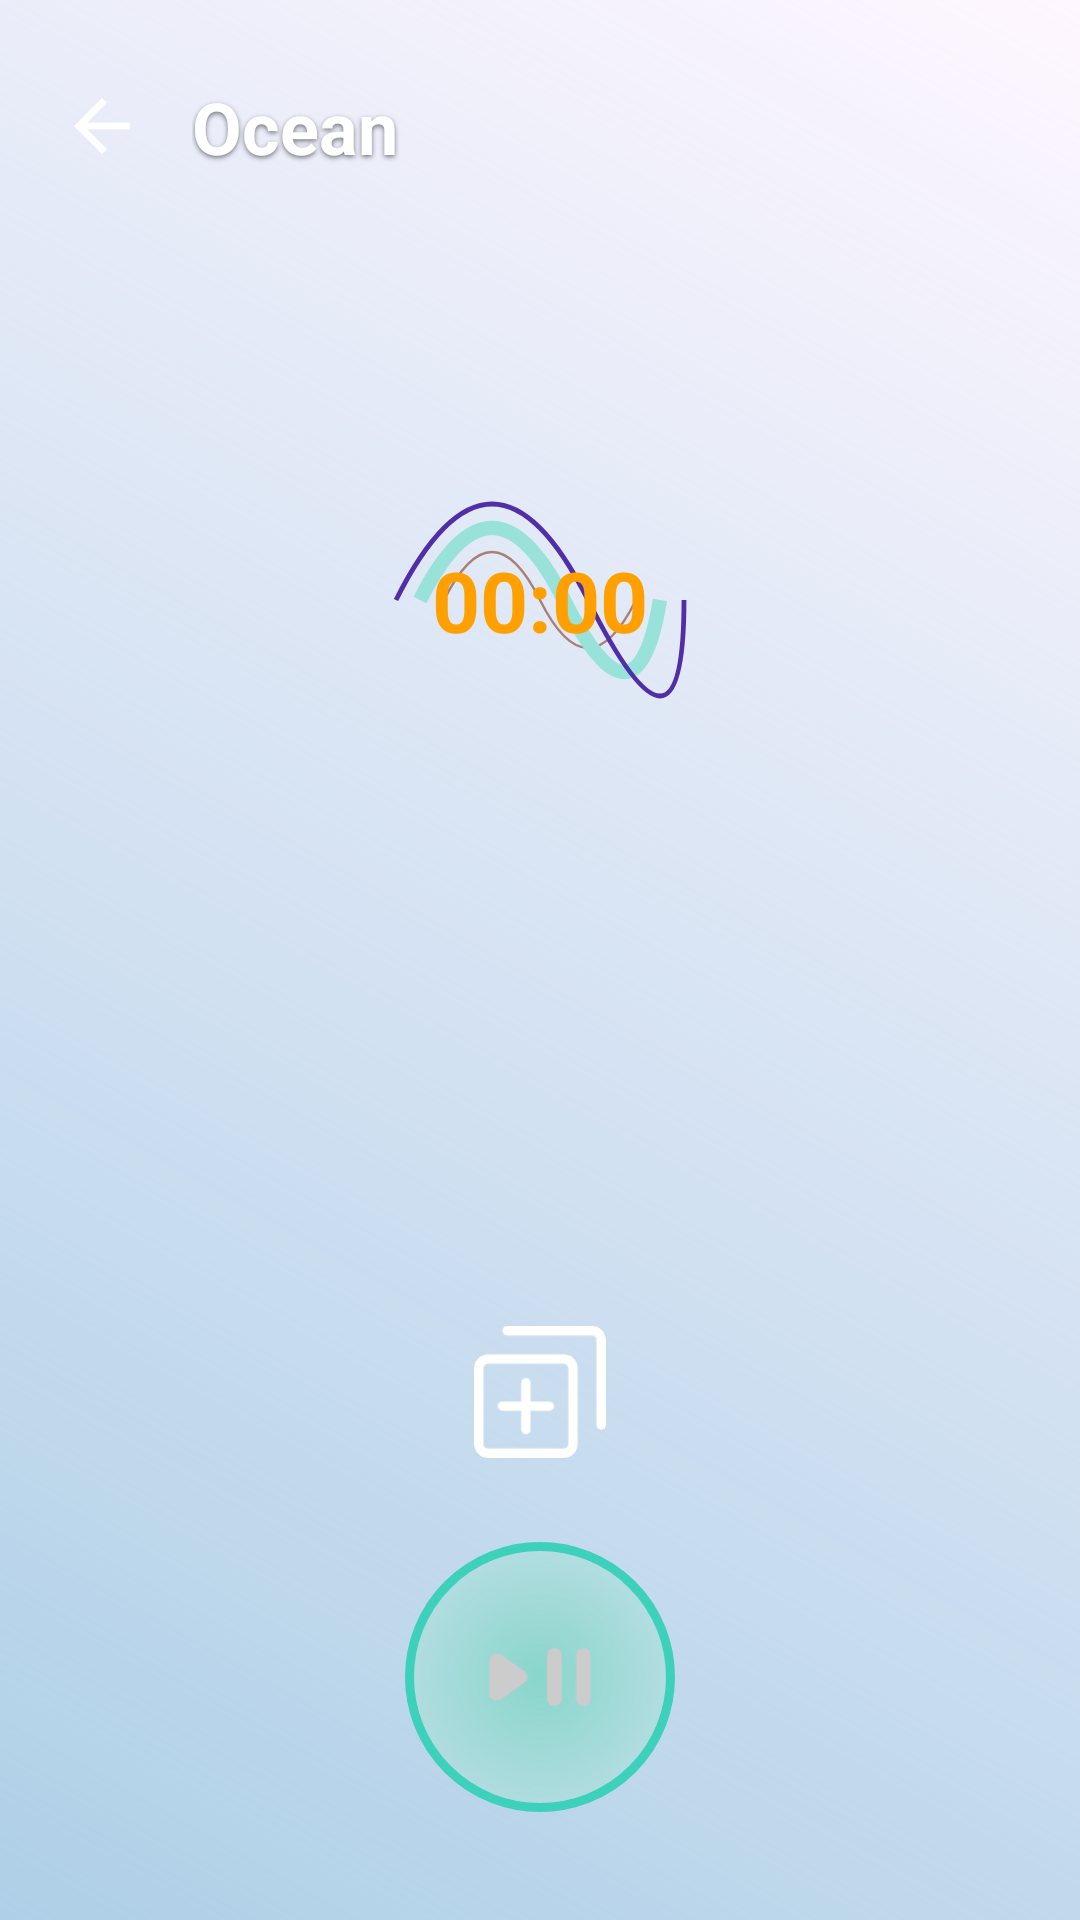

Screen size 1080×1920. Icon name, then its box in pixels as (x1, y1, x2, y2):
addll: (474, 1326, 606, 1458)
play: (405, 1542, 675, 1812)
